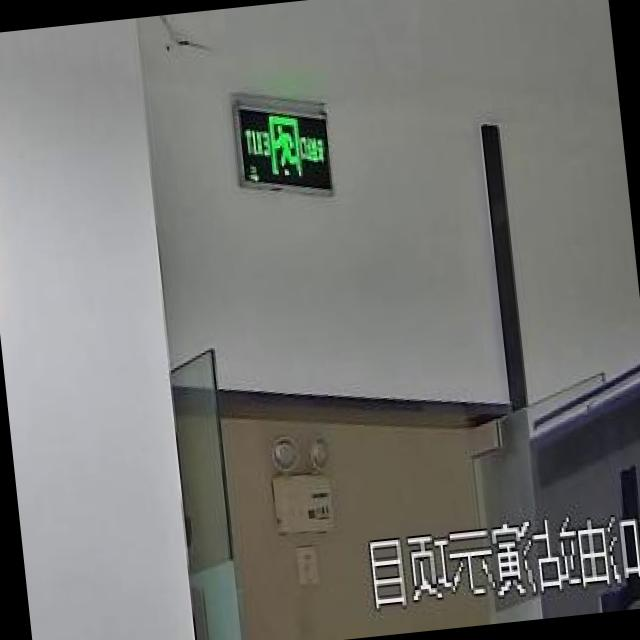Guns: (0, 32, 38, 399)
